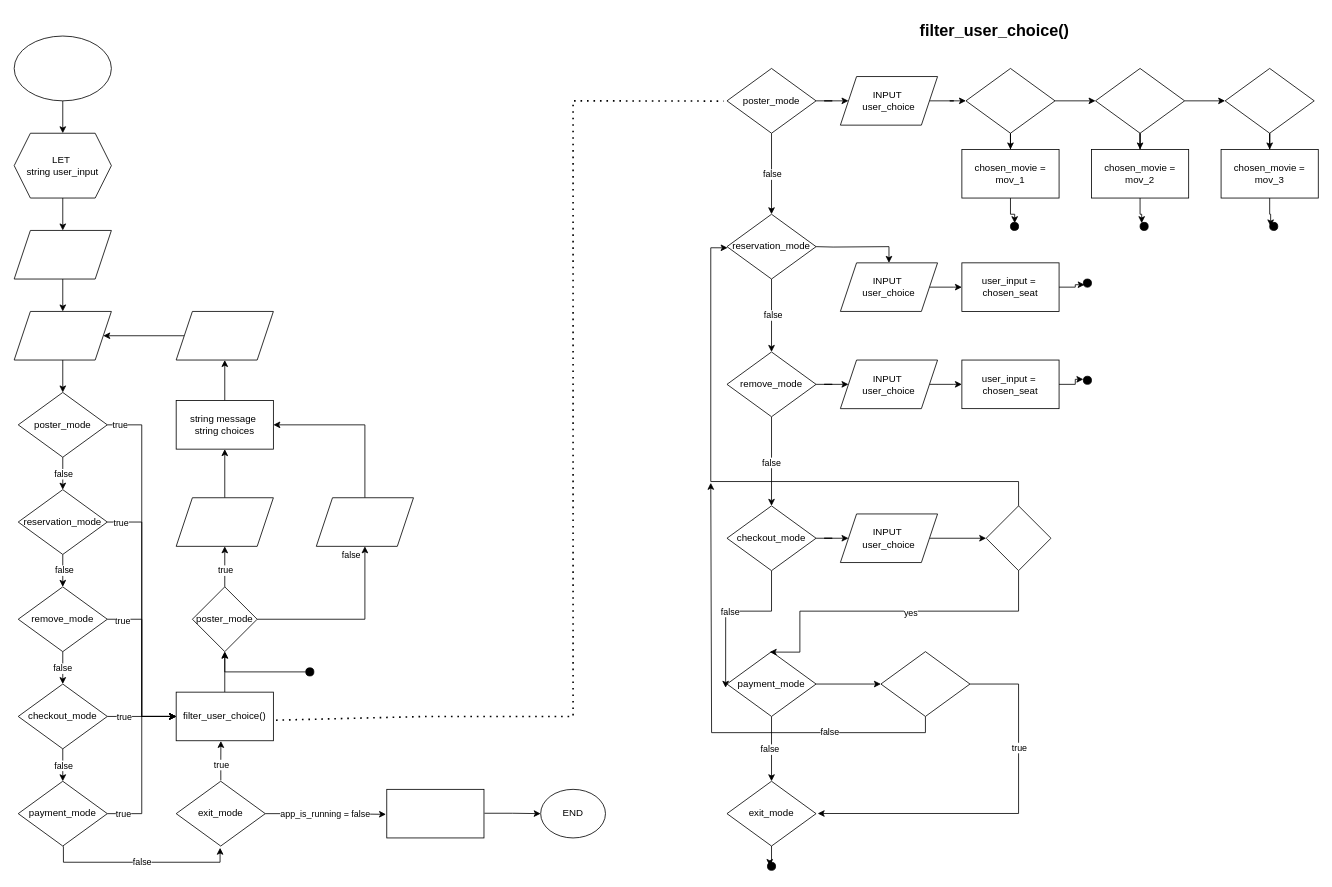
Image size: 1332x887. Some labels were removed from this diagram. The shapes that lost their labels are listed below. From the top down, each one's box as (x1, y1, x2, y2) in pixels, then its label:
(13, 35, 111, 101): START
(965, 68, 1055, 133): mov_1
(1095, 68, 1185, 133): mov_2
(1224, 68, 1314, 133): mov3
(13, 230, 111, 279): OUTPUT
(13, 311, 111, 360): INPUT user_input
(175, 311, 273, 360): OUTPUT messages choices
(175, 497, 273, 546): OUTPUT show_posters();
(315, 497, 414, 546): OUTPUT show_seats();
(985, 505, 1051, 571): user_choice
(880, 651, 970, 716): user_choice > amount
(386, 789, 484, 838): messages choices
